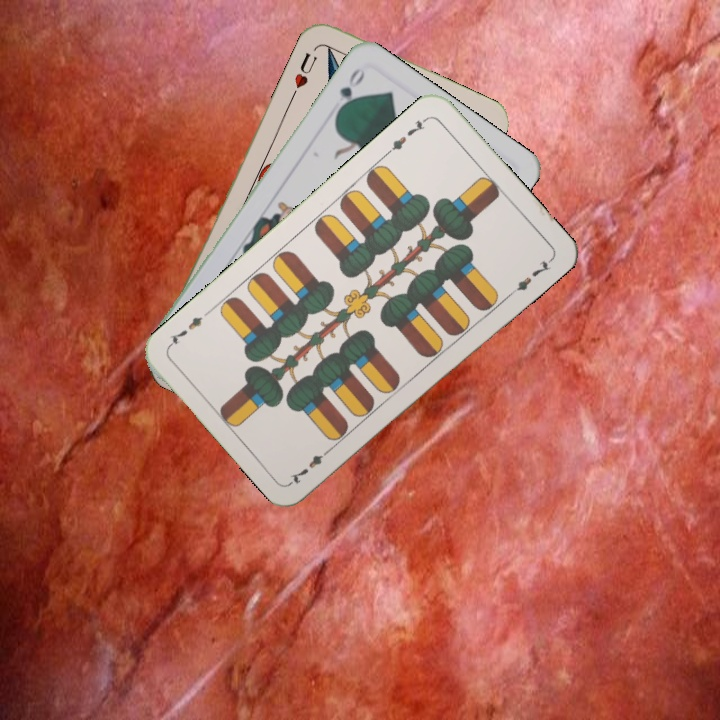E7: (383, 113, 432, 157), (286, 443, 335, 487)
GO: (332, 64, 368, 118)
HU: (288, 48, 320, 100)
